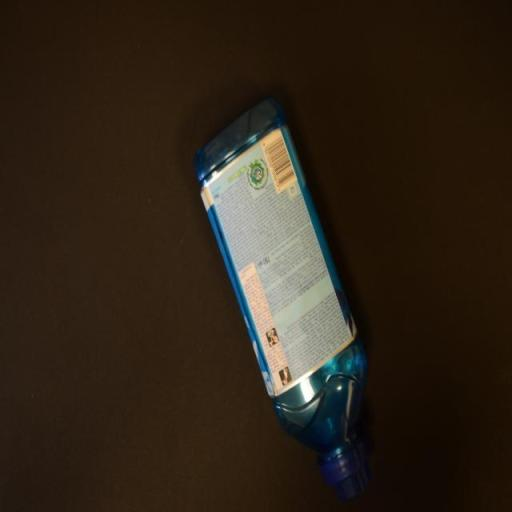plastic: (194, 100, 374, 491)
